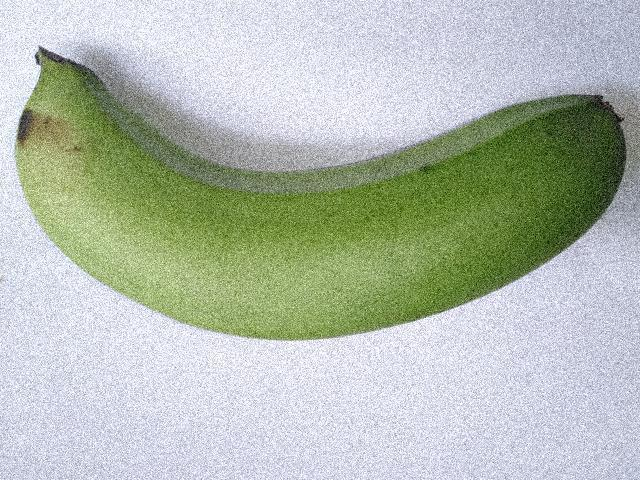freshunripe: (5, 35, 639, 367)
